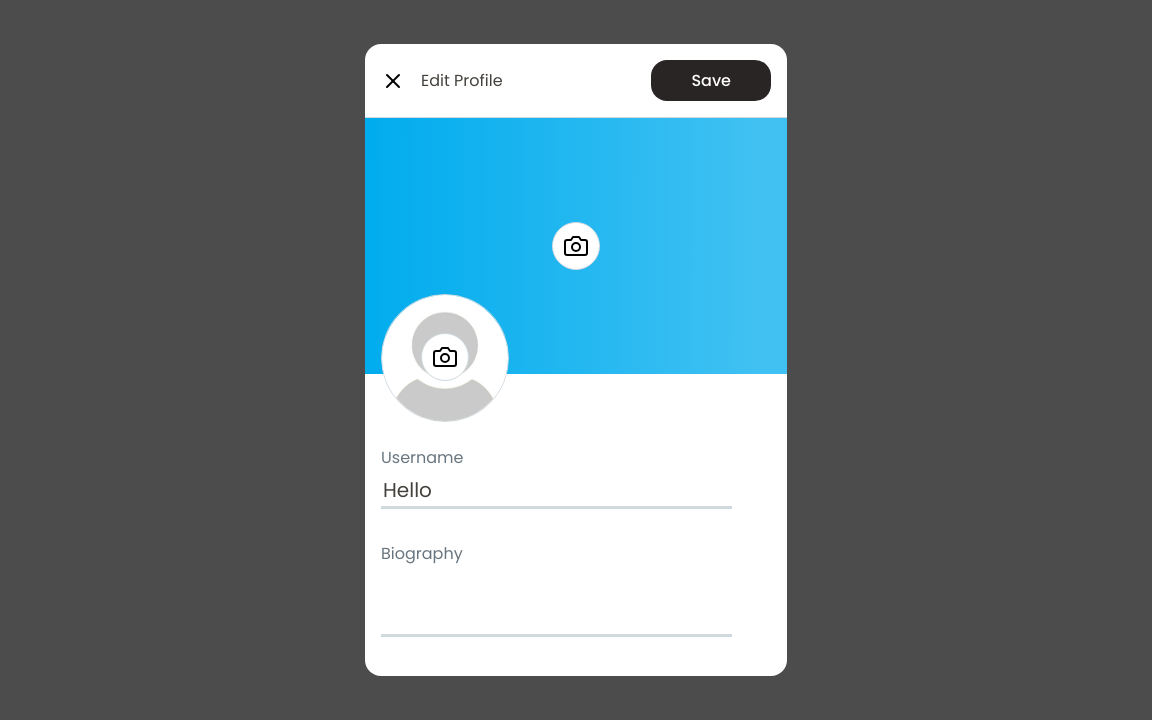
invalid inputs › leaving the username blank does not allow submission
The width and height of the screenshot is (1152, 720).
Clear the field labelled "Username": [556, 492] box x1=381 y1=474 x2=732 y2=509
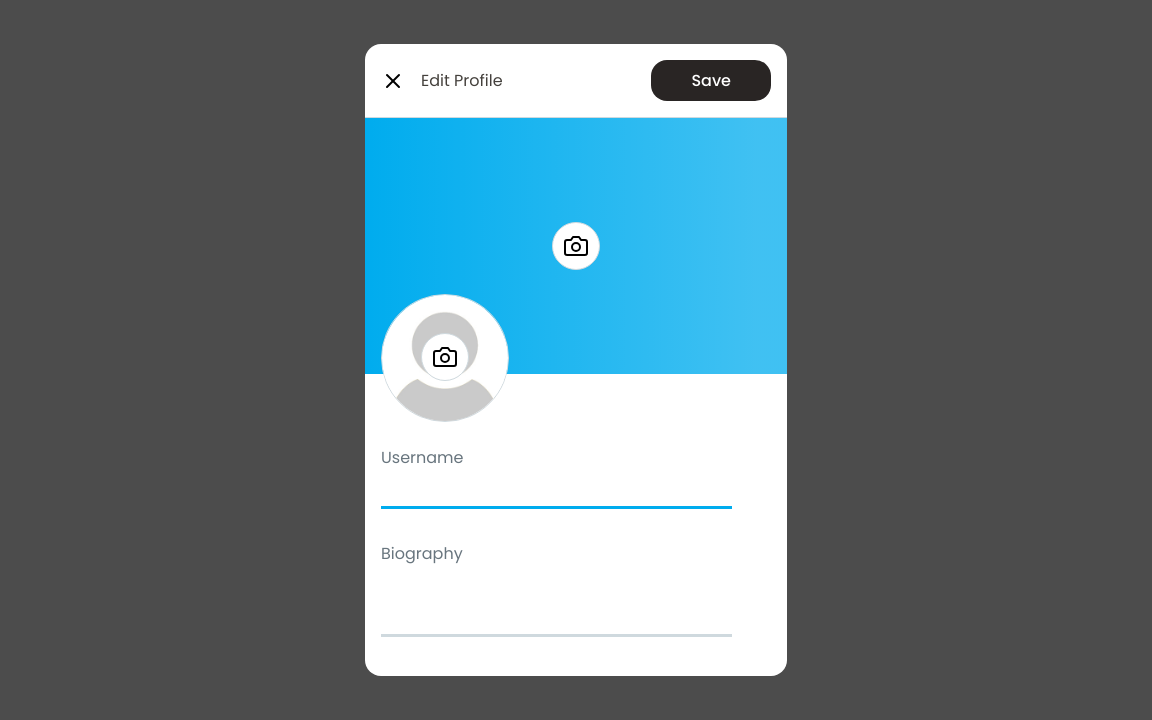
Click the button "Save": [711, 80] box x1=651 y1=60 x2=771 y2=101
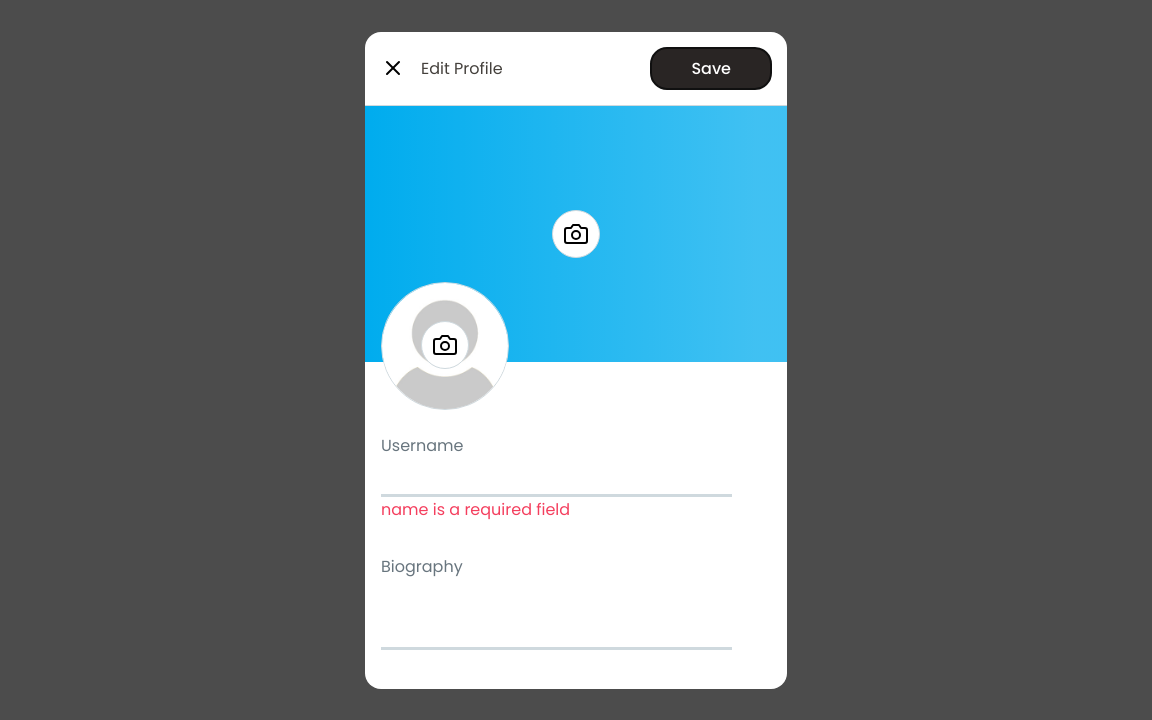
Expected: the text "name is a required field" is shown, x1=381 y1=498 x2=570 y2=520
